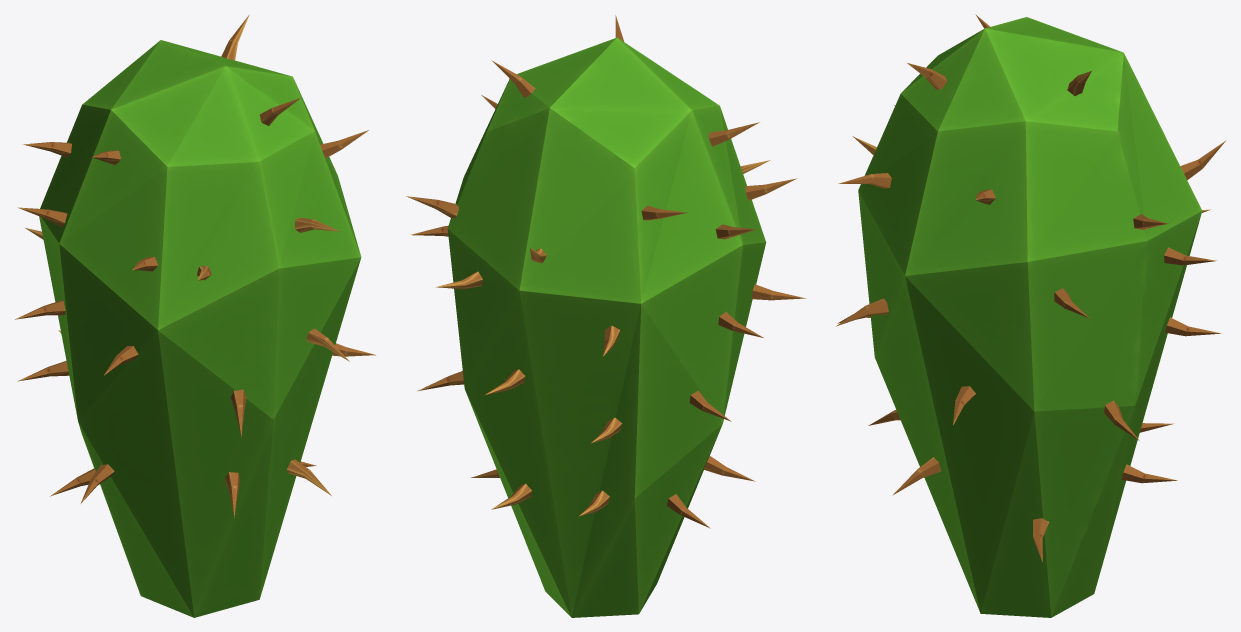
Rendered from Cactus_27.fbx.
The picture shows the model from 3 angles, left to right: view 1: azimuth 30°, elevation 25°; view 2: azimuth 150°, elevation 25°; view 3: azimuth 270°, elevation 25°; orthographic projection. The views are drawn at different scales.
Parts seen in each view (by area): view 1: Cactus_27; view 2: Cactus_27; view 3: Cactus_27.
Part boxes in pixels (x1=…): Cactus_27: x1=15, y1=14, x2=375, y2=617; Cactus_27: x1=406, y1=15, x2=806, y2=617; Cactus_27: x1=836, y1=14, x2=1226, y2=617.
Bounding box in the file's own units: 20.62 × 31.6 × 19.72.
